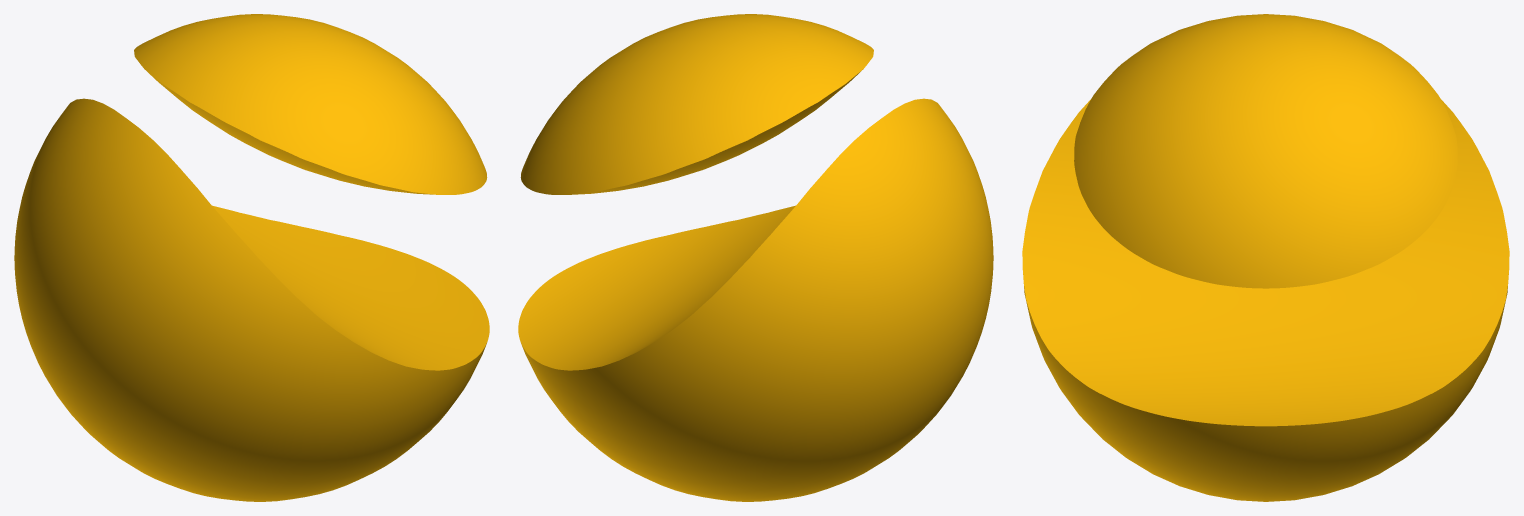
File: lunc.glb
3 views of the same model, side by side, from view 1: azimuth 30°, elevation 25°; view 2: azimuth 150°, elevation 25°; view 3: azimuth 270°, elevation 25° (orthographic).
Visible parts, largest first — view 1: Mesh_0, Mesh_1; view 2: Mesh_0, Mesh_1; view 3: Mesh_0, Mesh_1.
Boxes of the visible parts, box(x1,y1,x2,y2) form: Mesh_0: box(14, 98, 489, 501); Mesh_1: box(134, 14, 487, 194); Mesh_0: box(518, 98, 993, 501); Mesh_1: box(520, 14, 873, 194); Mesh_0: box(1022, 99, 1509, 501); Mesh_1: box(1074, 14, 1457, 288).
Bounding box in the file's own units: 1.95 × 2 × 2.
